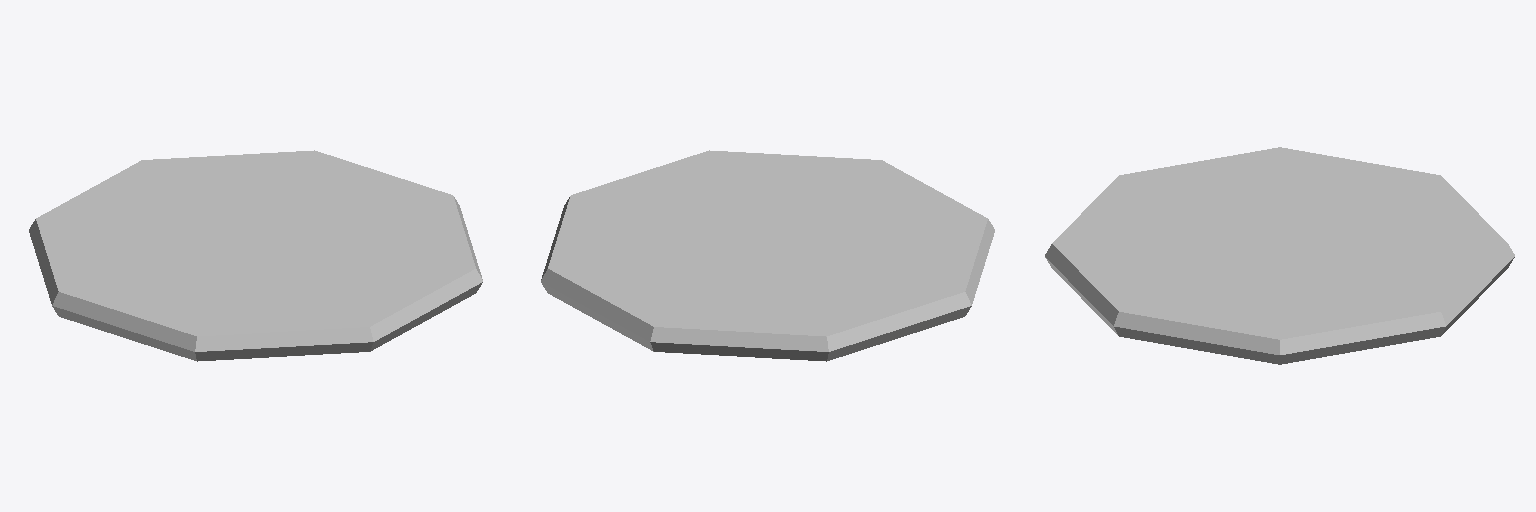
The model's file is cracker.obj.
The picture shows the model from 3 angles: view 1: azimuth 30°, elevation 25°; view 2: azimuth 150°, elevation 25°; view 3: azimuth 270°, elevation 25°; orthographic projection.
Size of the model in its own units: 2.07 by 0.1209 by 2.07.